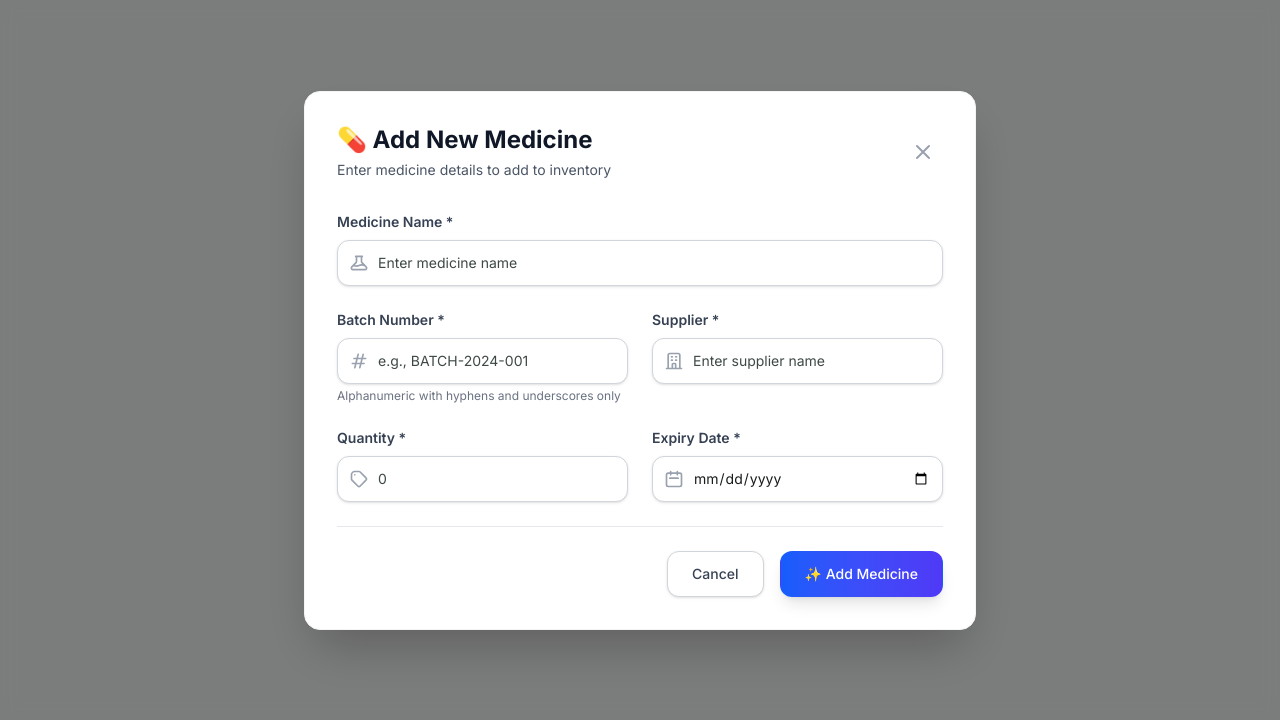
Test: MedicineForm › Validation › should show error when batch number has invalid characters
Type "BATCH@2024!" into the field labelled "Batch Number *". click: (482, 360)
box: top-left (337, 338), bottom-right (628, 384)
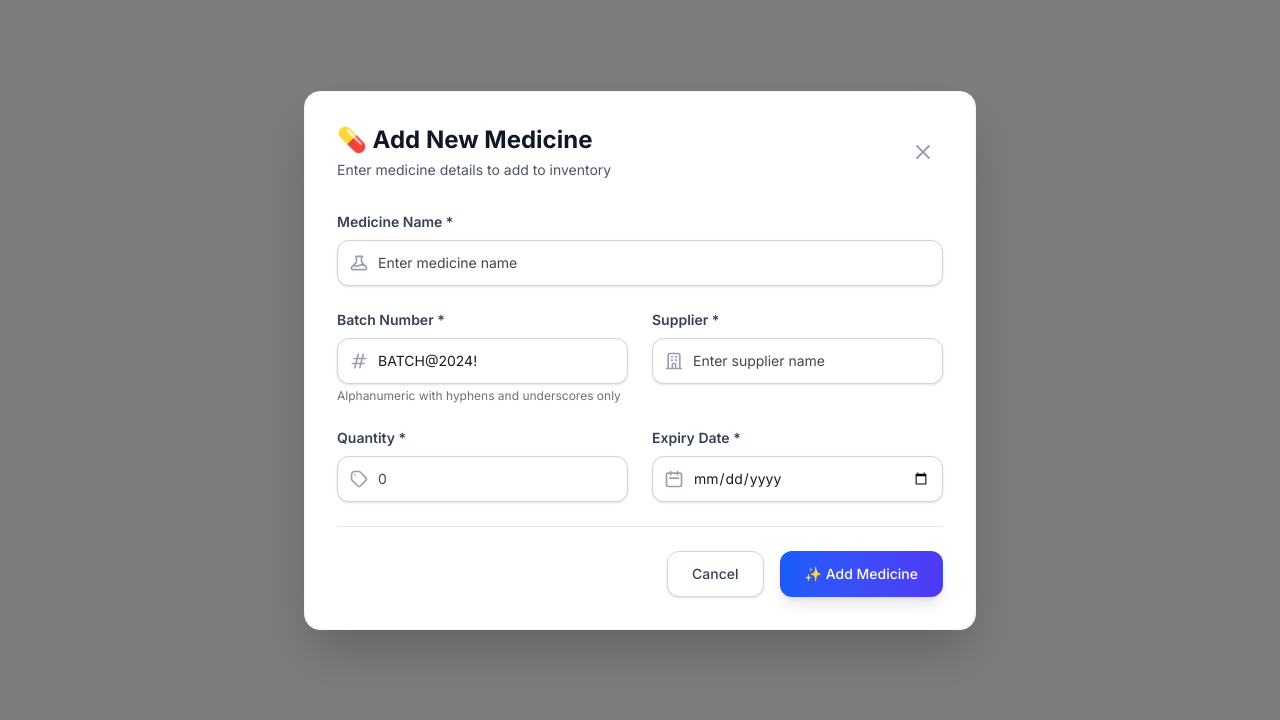
Click the button "✨ Add Medicine". click: click(861, 574)
box: top-left (780, 550), bottom-right (943, 596)
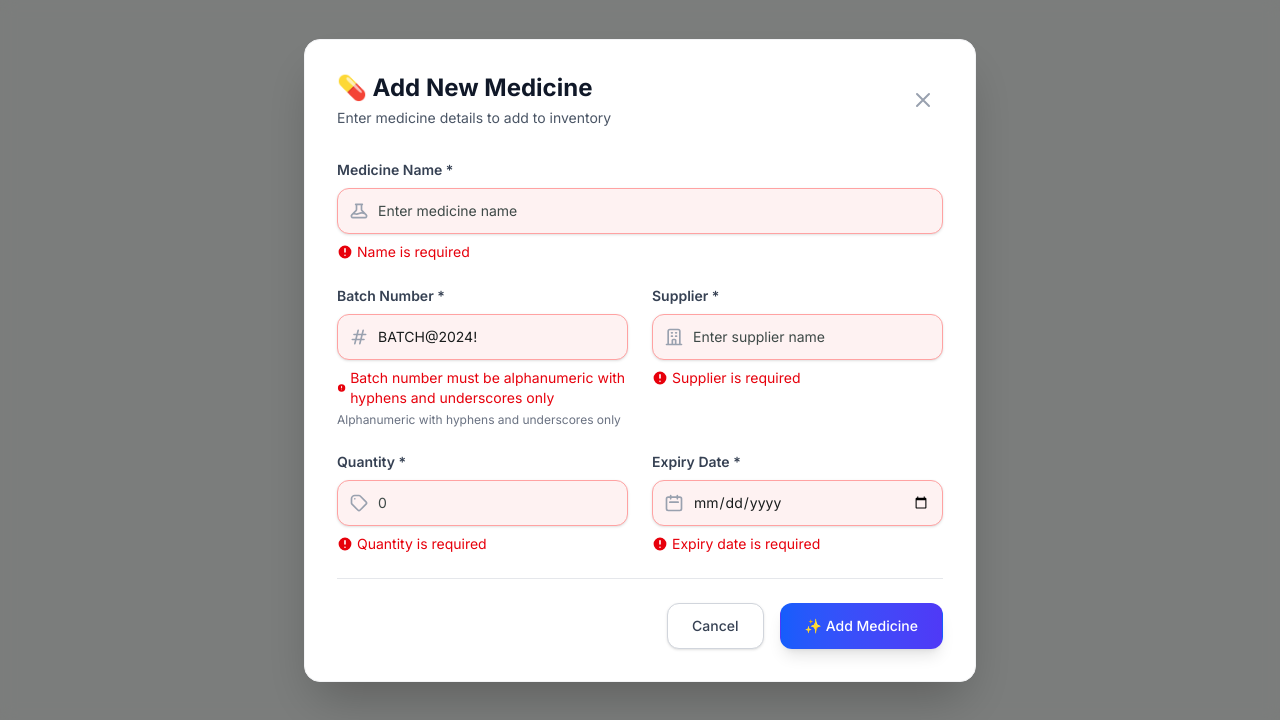
expect the text "must be alphanumeric with hyphens and underscores only" is shown: met, box top-left (350, 368), bottom-right (625, 406)
